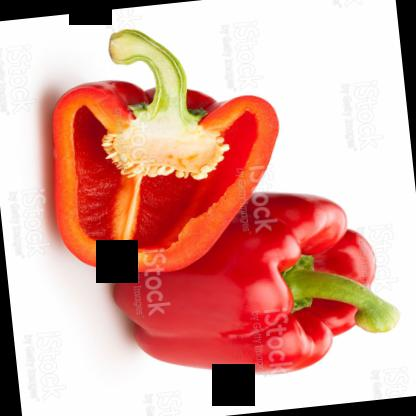bell pepper: (29, 12, 291, 283), (99, 178, 409, 390)
